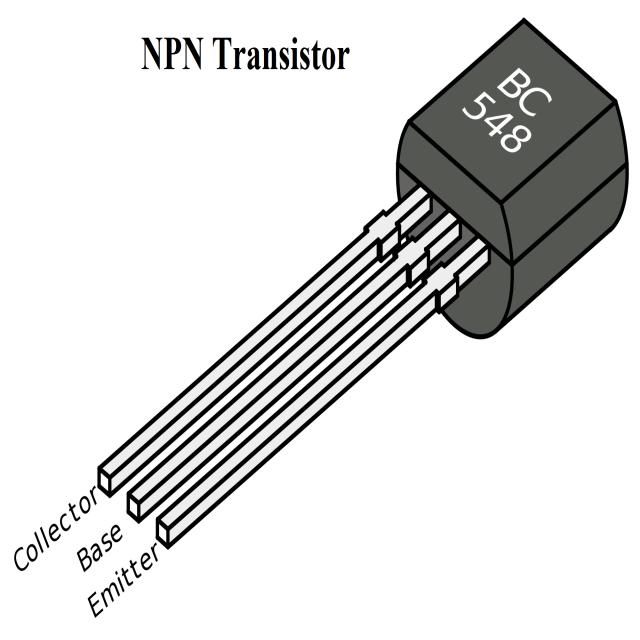Transistor: (397, 18, 630, 339)
